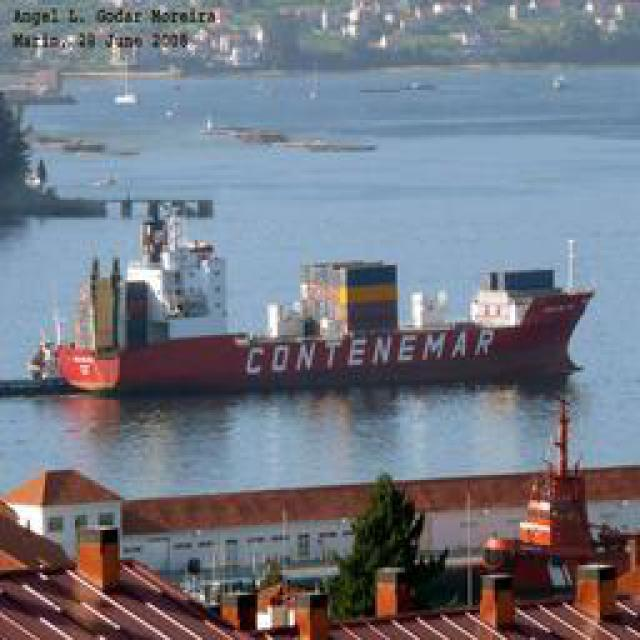Ship: (26, 237, 606, 400)
